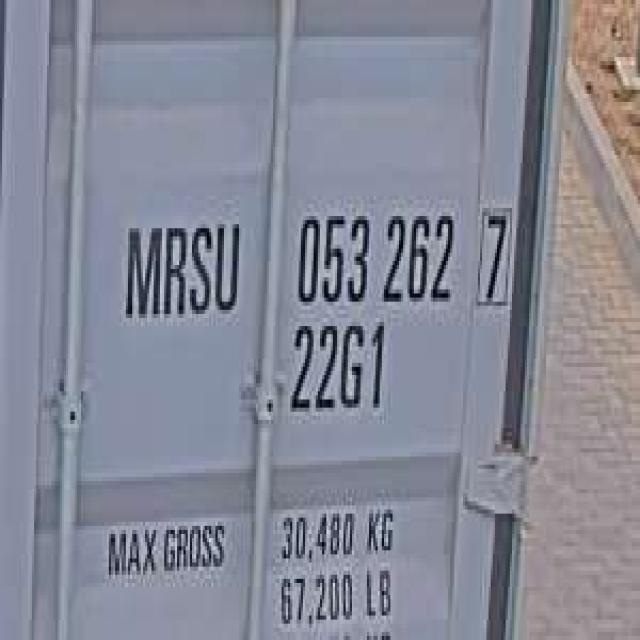dv: (472, 196, 514, 314)
owner: (118, 204, 244, 330)
serial: (288, 196, 457, 314)
size: (286, 314, 388, 424)
